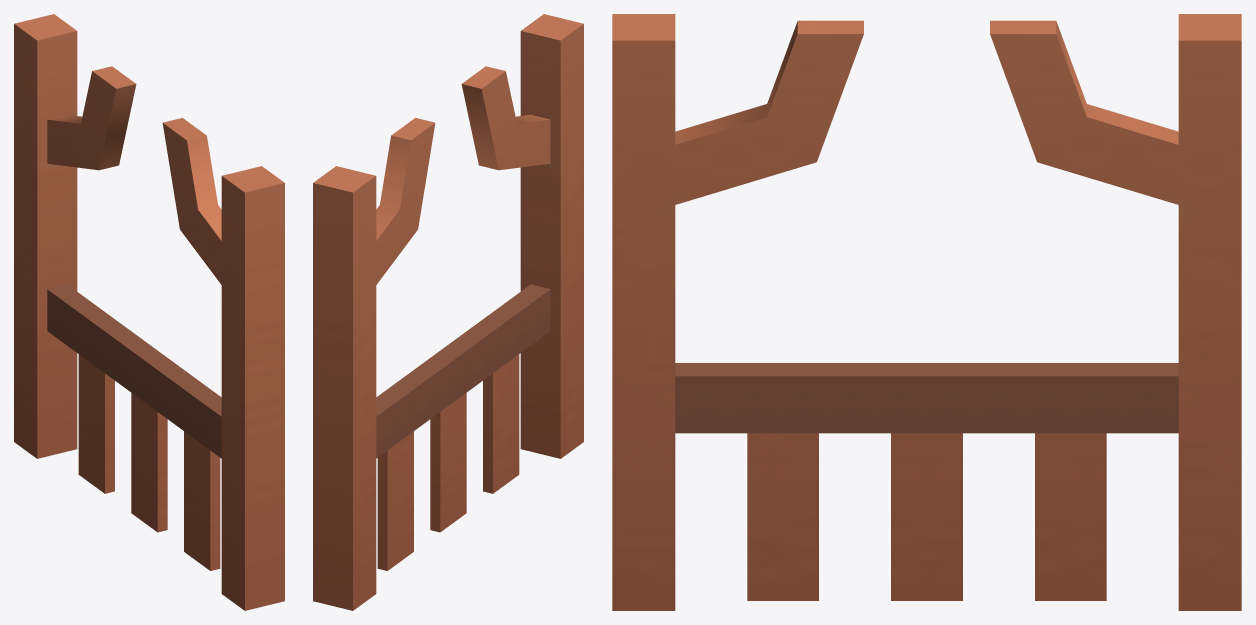
Rendered from balconyWallFence.fbx.
3 renders of one model, left to right at view 1: azimuth 30°, elevation 25°; view 2: azimuth 150°, elevation 25°; view 3: azimuth 270°, elevation 25°, orthographic. The views are drawn at different scales.
Parts seen in each view (by area): view 1: balconyWallFence; view 2: balconyWallFence; view 3: balconyWallFence.
Part boxes in pixels (x1,y1,x2,y2): balconyWallFence: (14,14,284,610); balconyWallFence: (313,14,583,610); balconyWallFence: (612,14,1241,610).
Bounding box in the file's own units: 0.1 × 1 × 1.
